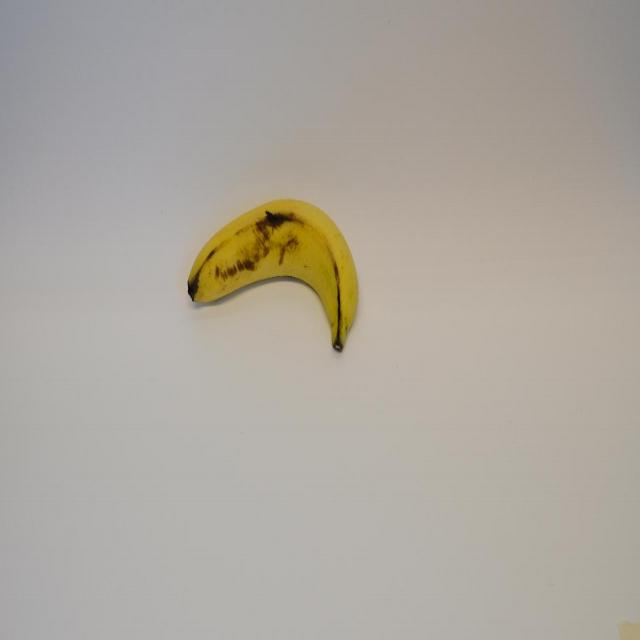banana: (186, 196, 360, 353)
